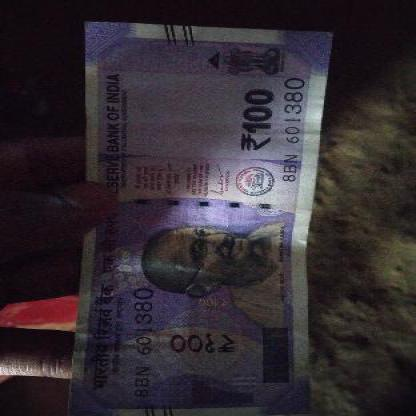New100Front: (78, 27, 322, 415)
